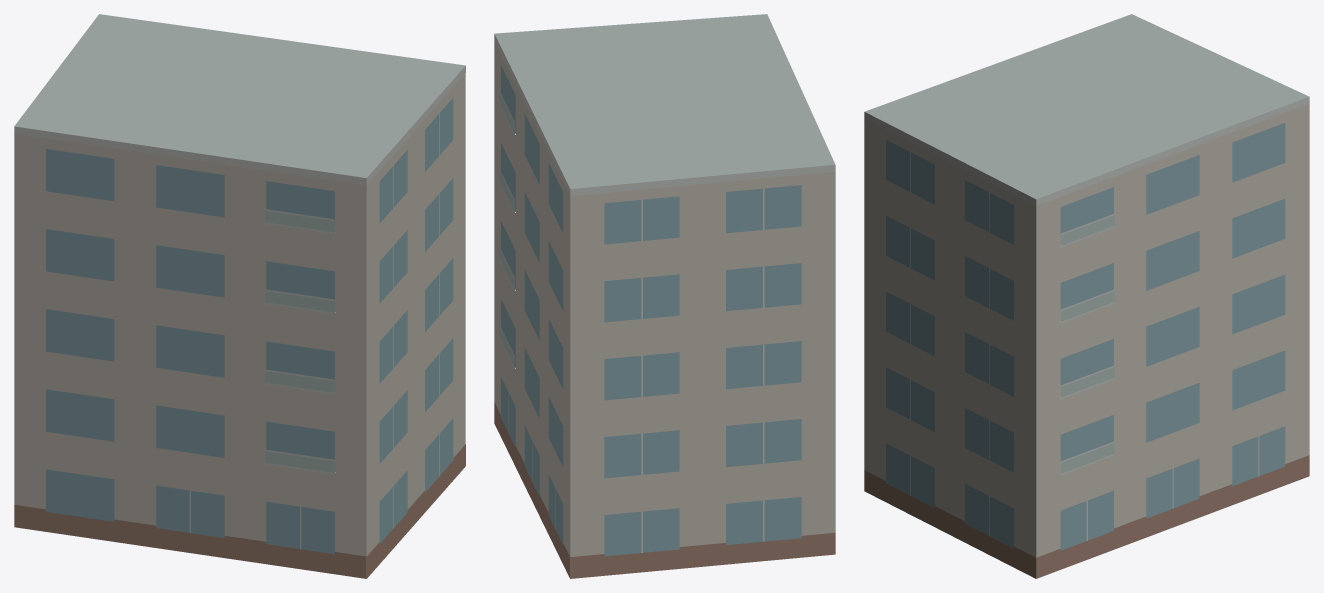
Rendered from survey-upis-32893257.glb.
3 renders of one model, left to right at view 1: azimuth 30°, elevation 25°; view 2: azimuth 150°, elevation 25°; view 3: azimuth 270°, elevation 25°, orthographic. The views are drawn at different scales.
Parts seen in each view (by area): view 1: survey-upis-32893257.tmp; view 2: survey-upis-32893257.tmp; view 3: survey-upis-32893257.tmp.
Boxes of the visible parts, box(x1,y1,x2,y2) form: survey-upis-32893257.tmp: box(14, 14, 465, 578); survey-upis-32893257.tmp: box(494, 14, 835, 578); survey-upis-32893257.tmp: box(864, 14, 1309, 578).
Bounding box in the file's own units: 14.25 × 13.6 × 14.47.
